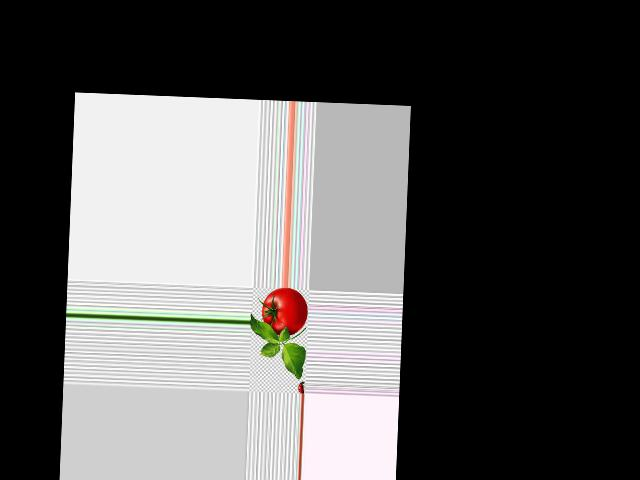tomato: (261, 287, 308, 336)
